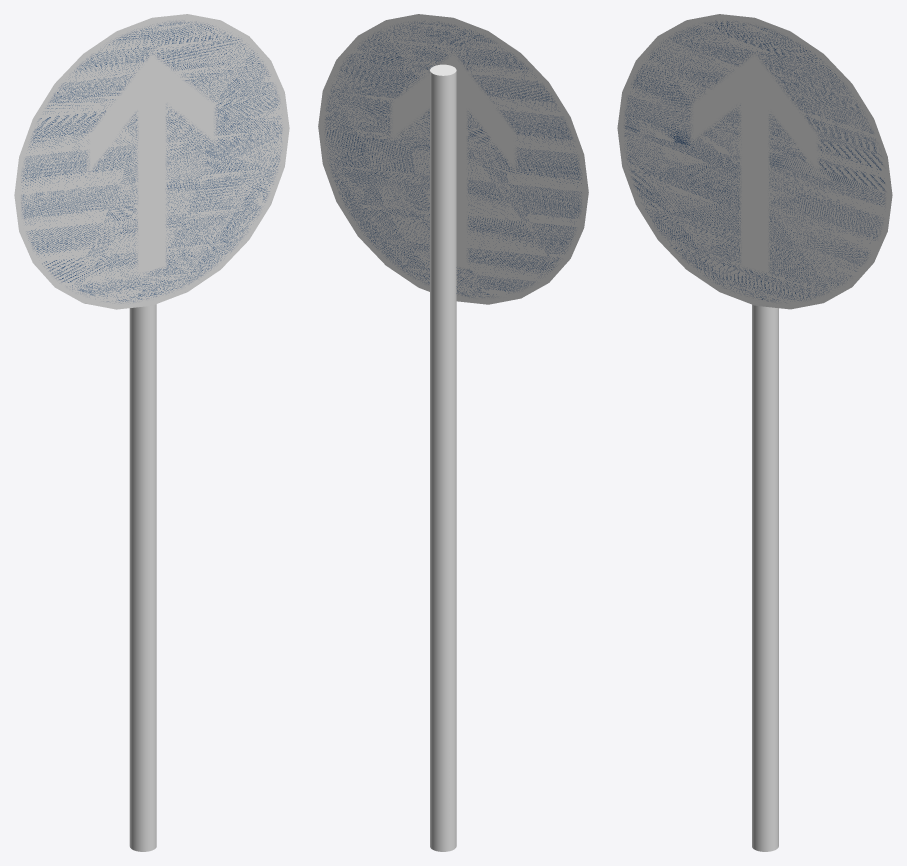
The picture shows the model from 3 angles, left to right: view 1: azimuth 30°, elevation 25°; view 2: azimuth 150°, elevation 25°; view 3: azimuth 330°, elevation 25°; orthographic projection.
Visible parts, largest first — view 1: SketchUp (×2); view 2: SketchUp (×2); view 3: SketchUp (×2).
Boxes of the visible parts, x1=… form: SketchUp (×2): x1=14, y1=14, x2=289, y2=851; SketchUp (×2): x1=318, y1=14, x2=588, y2=851; SketchUp (×2): x1=617, y1=14, x2=892, y2=851.
Size of the model in its own units: 74.02 by 7.6 by 215.
Materials: 2 (1 with a texture image).
